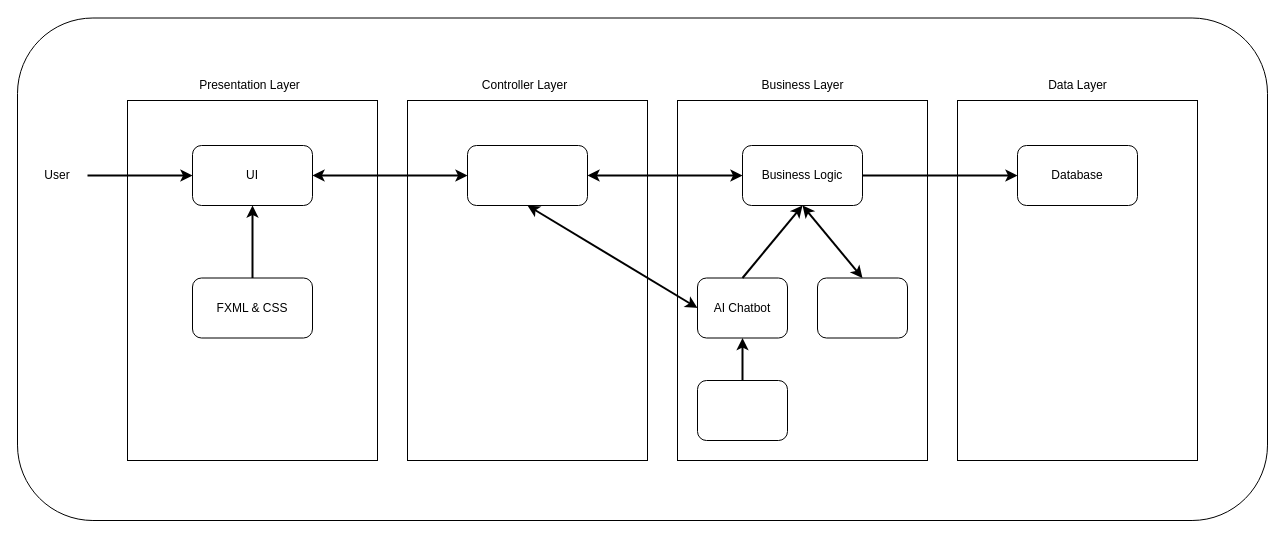
Some shapes in this 1285 by 557 pixel diagram are drawn without their labels. Each missing label, with the box of its shape:
AI: (696, 380, 788, 440)
Controller: (466, 144, 588, 206)
Pet State Machine: (816, 277, 908, 338)
